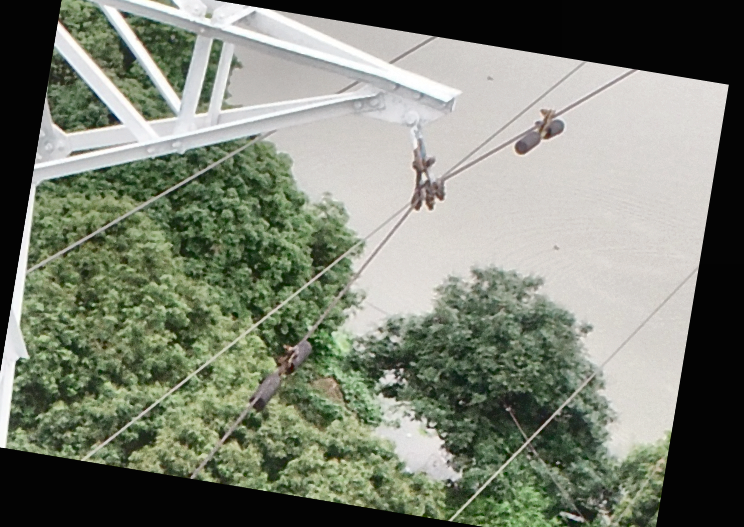damper: (250, 338, 314, 415), (510, 105, 570, 157)
